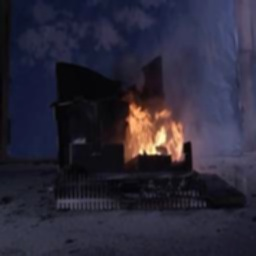fire: (113, 95, 192, 167)
